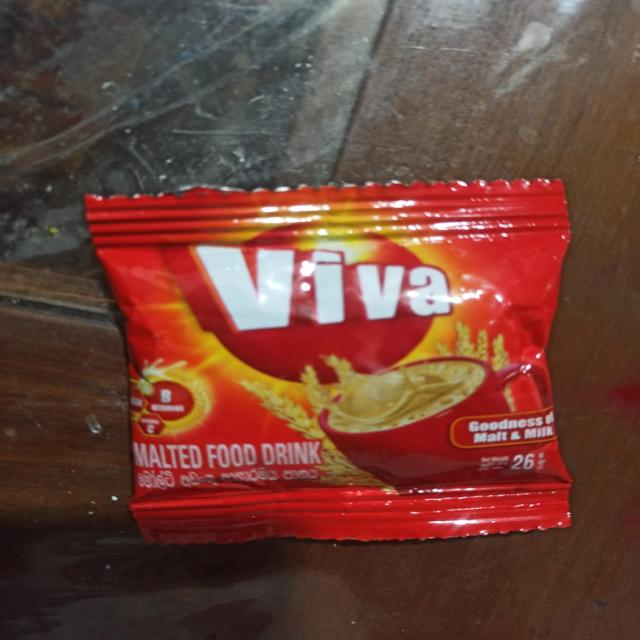Viva Malt: (43, 159, 624, 563)
